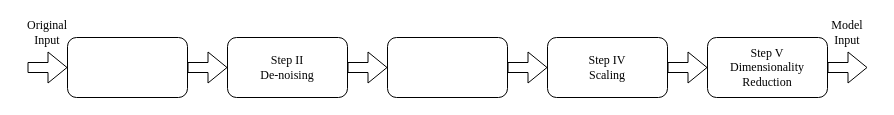
This 894x115 diagram has some shape labels left out. The centre of each missing label's shape, as x and y in pixels:
"Step I Resampling" belongs at pixel 127 67.
"Step III Features Extraction" belongs at pixel 447 67.
